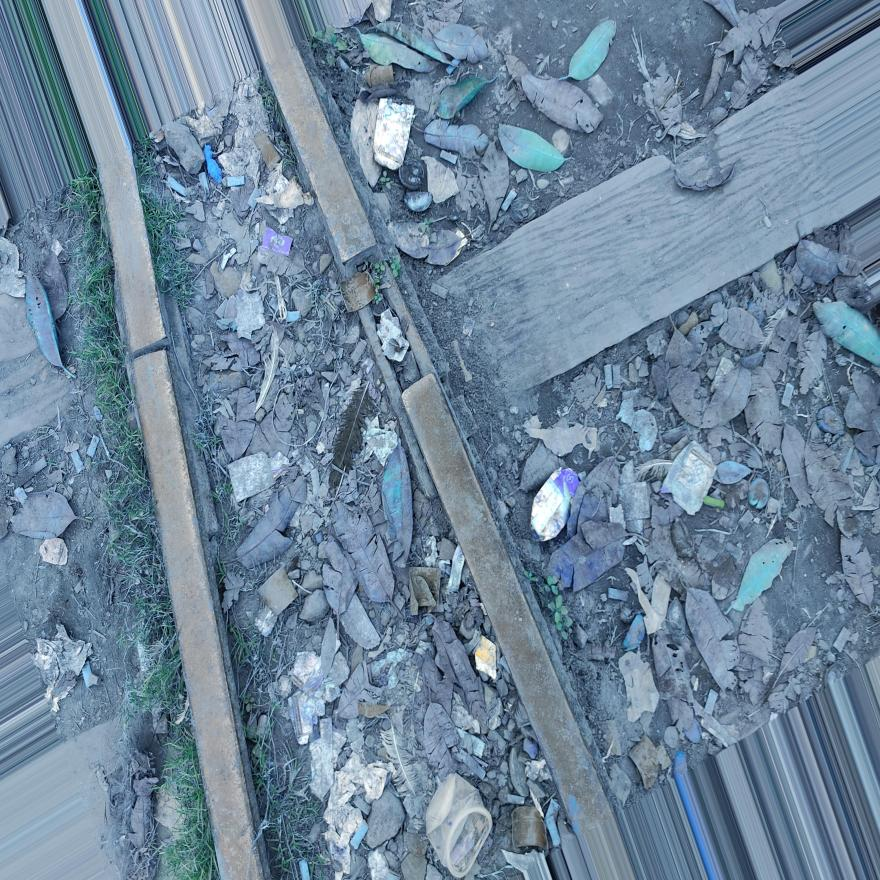railway-gap: (311, 220, 466, 434), (102, 296, 190, 408)
